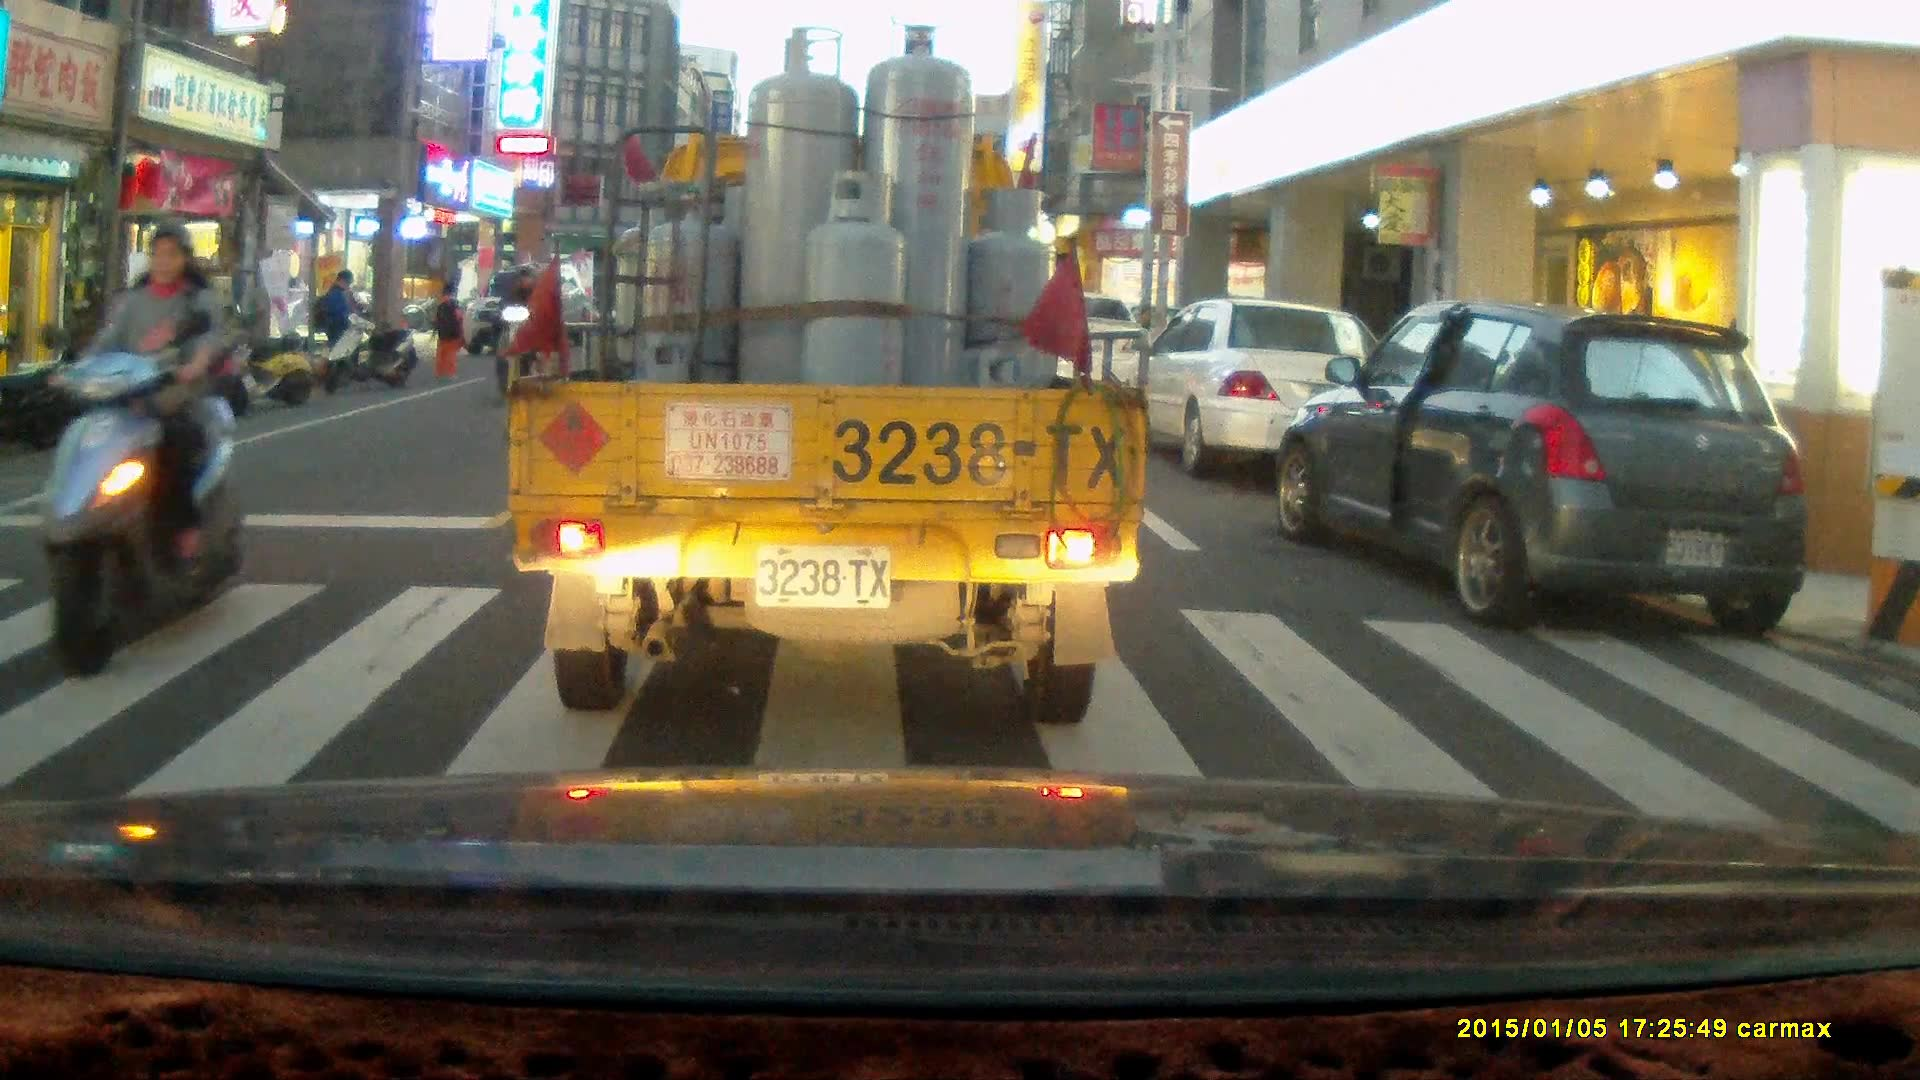pedestrian: (319, 268, 355, 382), (430, 278, 469, 376)
rider: (34, 210, 247, 677), (491, 270, 542, 405)
vehicle: (519, 63, 1134, 719), (1277, 305, 1816, 640), (1129, 300, 1379, 482), (1026, 295, 1160, 413), (462, 269, 585, 363)
